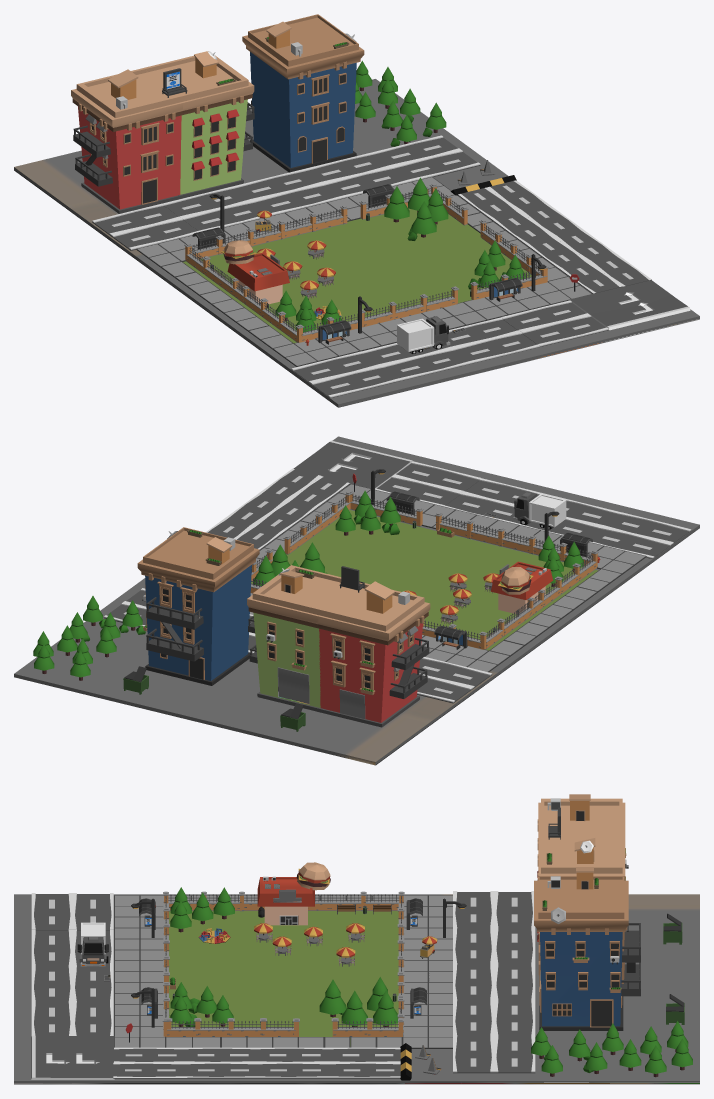
Rendered from city_-_cidade (2).glb.
The picture shows the model from 3 angles, top to bottom: view 1: azimuth 30°, elevation 25°; view 2: azimuth 150°, elevation 25°; view 3: azimuth 270°, elevation 25°; orthographic projection. The views are drawn at different scales.
Visible parts, largest first — view 1: Object_4, Object_2, Object_5; view 2: Object_4, Object_2, Object_5; view 3: Object_4, Object_2, Object_5.
Boxes of the visible parts, left/top/right/bottom form: Object_4: left=14, top=33, right=699, bottom=407; Object_2: left=71, top=14, right=690, bottom=397; Object_5: left=15, top=96, right=689, bottom=407; Object_4: left=14, top=436, right=699, bottom=765; Object_2: left=37, top=457, right=690, bottom=731; Object_5: left=148, top=440, right=698, bottom=763; Object_4: left=14, top=802, right=699, bottom=1084; Object_2: left=31, top=794, right=688, bottom=1079; Object_5: left=31, top=856, right=627, bottom=1077.
Size of the model in its own units: 383 by 134 by 592.
Materials: 1 (1 with a texture image).
